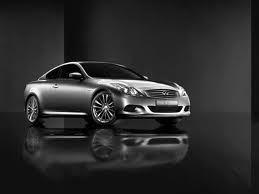car: (22, 60, 195, 132)
